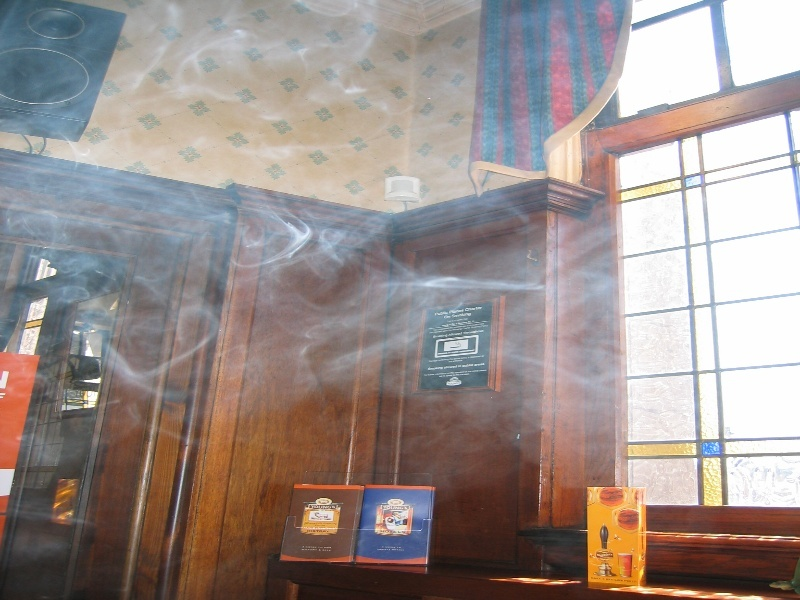smoke: (183, 209, 392, 393)
